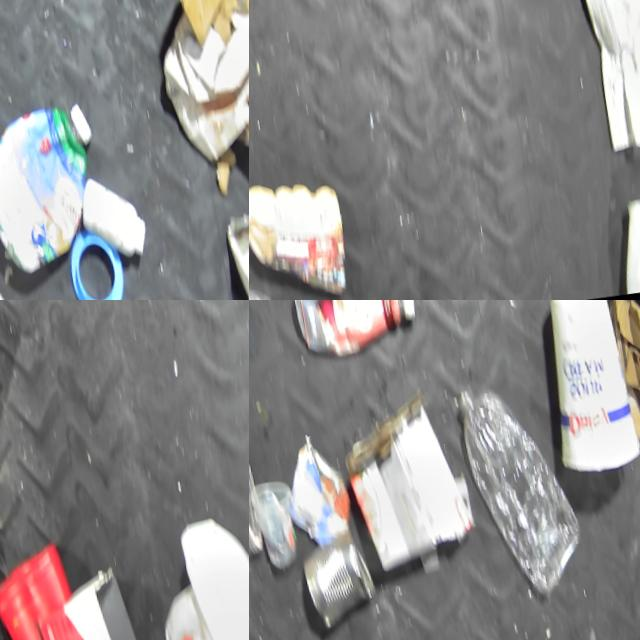can: (295, 519, 383, 632)
milk_jug: (176, 503, 249, 640), (154, 571, 249, 640), (606, 174, 640, 293)
non_white_jug: (0, 95, 111, 276)
plastic_bottle: (449, 368, 592, 606)
